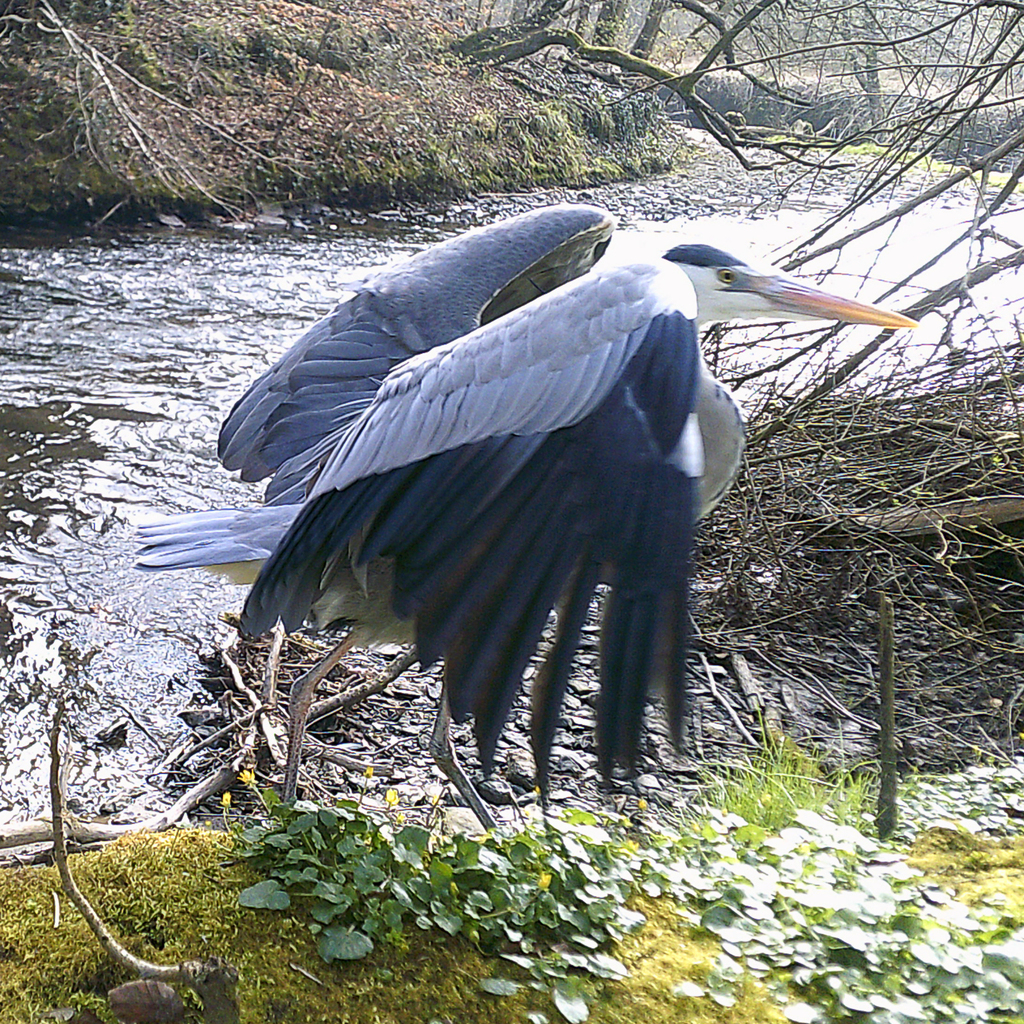heron: (132, 199, 922, 852)
